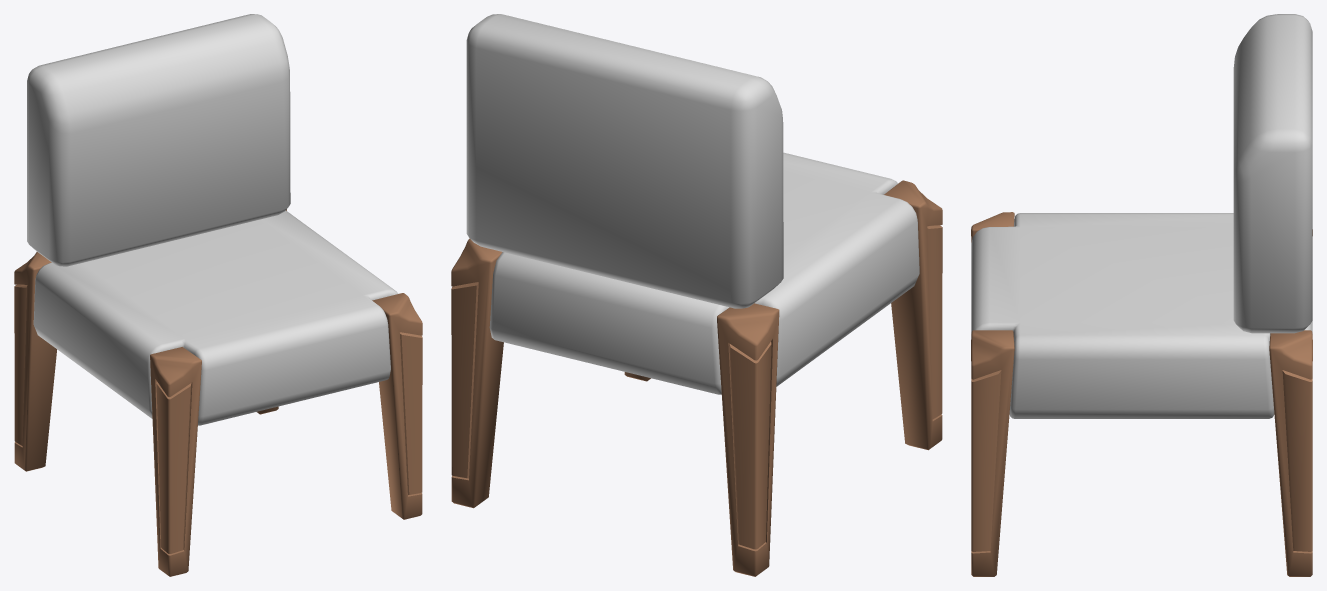
Rendered from czy0021.FBX.
3 renders of one model, left to right at view 1: azimuth 30°, elevation 25°; view 2: azimuth 150°, elevation 25°; view 3: azimuth 270°, elevation 25°, orthographic. The views are drawn at different scales.
Parts seen in each view (by area): view 1: czy0021; view 2: czy0021; view 3: czy0021.
Part boxes in pixels (x1,y1,x2,y2): czy0021: [14, 14, 422, 576]; czy0021: [451, 14, 942, 576]; czy0021: [971, 14, 1312, 576].
Size of the model in its own units: 50.44 by 53.12 by 75.
